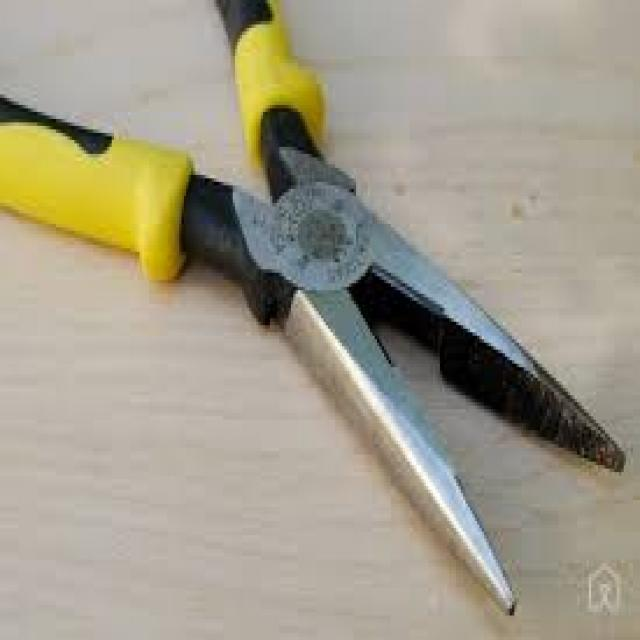pliers: (0, 0, 633, 614)
